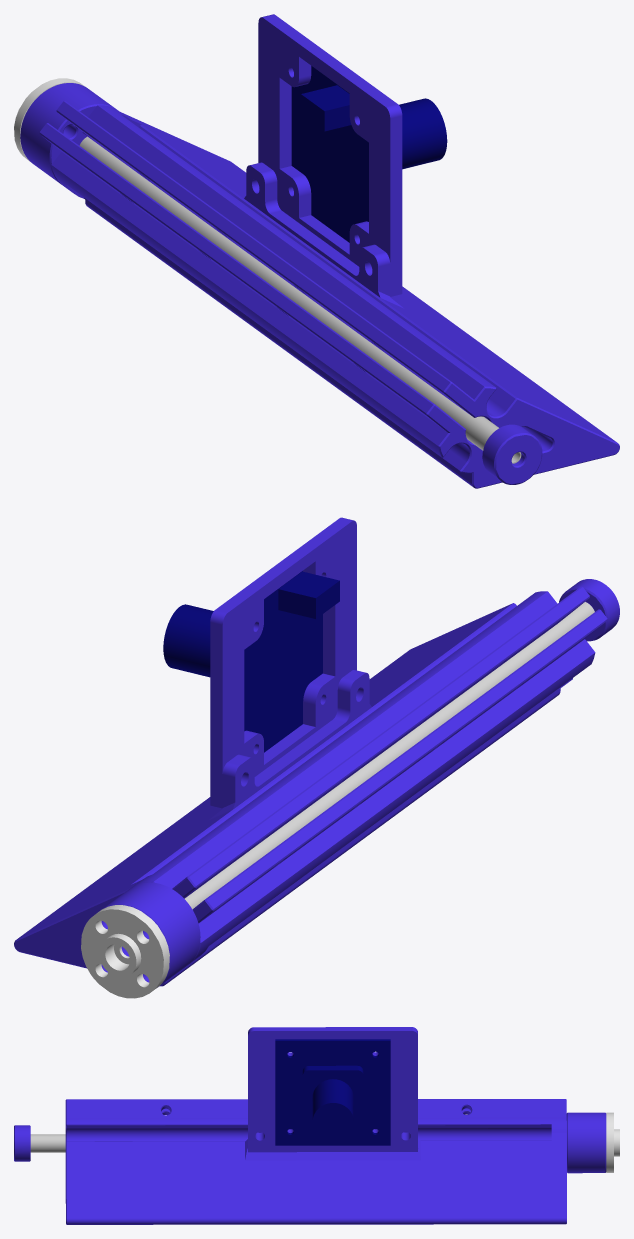
File: Attacker_UpperWing.dae
3 renders of one model, top to bottom at view 1: azimuth 30°, elevation 25°; view 2: azimuth 150°, elevation 25°; view 3: azimuth 270°, elevation 25°, orthographic. The views are drawn at different scales.
Parts seen in each view (by area): view 1: Body1.090, Body1.088, Body1.089, Body1.094, Body1.093, Body1.092, Body1.095; view 2: Body1.090, Body1.088, Body1.089, Body1.094, Body1.095, Body1.093, Body1.092; view 3: Body1.090, Body1.089, Body1.088, Body1.093, Body1.094, Body1.095, Body1.092.
Part boxes in pixels (left/top/right/bottom): Body1.090: left=39, top=101, right=619, bottom=488; Body1.088: left=258, top=14, right=402, bottom=296; Body1.089: left=291, top=66, right=447, bottom=242; Body1.094: left=79, top=136, right=521, bottom=463; Body1.093: left=20, top=83, right=116, bottom=184; Body1.092: left=482, top=424, right=542, bottom=484; Body1.095: left=14, top=78, right=85, bottom=161; Body1.090: left=14, top=586, right=607, bottom=986; Body1.088: left=210, top=517, right=356, bottom=808; Body1.089: left=163, top=571, right=339, bottom=752; Body1.094: left=184, top=602, right=594, bottom=909; Body1.095: left=81, top=905, right=169, bottom=998; Body1.093: left=101, top=882, right=200, bottom=987; Body1.092: left=559, top=579, right=619, bottom=641; Body1.090: left=65, top=1099, right=566, bottom=1224; Body1.089: left=275, top=1039, right=390, bottom=1145; Body1.088: left=248, top=1027, right=417, bottom=1152; Body1.093: left=566, top=1112, right=606, bottom=1173; Body1.094: left=30, top=1134, right=65, bottom=1152; Body1.095: left=606, top=1112, right=619, bottom=1172; Body1.092: left=14, top=1125, right=30, bottom=1161.
Bounding box in the file's own units: 0.0524 × 0.1995 × 0.062.
